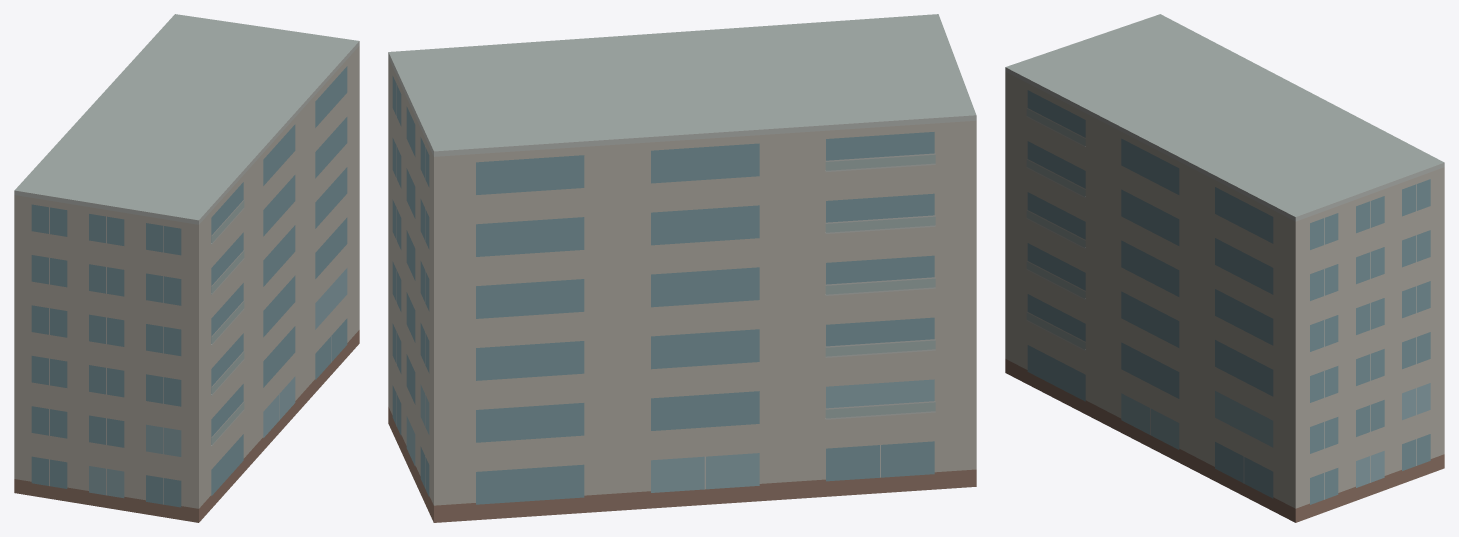
File: survey-upis-32999544.glb
3 renders of one model, left to right at view 1: azimuth 30°, elevation 25°; view 2: azimuth 150°, elevation 25°; view 3: azimuth 270°, elevation 25°, orthographic. The views are drawn at different scales.
Visible parts, largest first — view 1: survey-upis-32999544.tmp; view 2: survey-upis-32999544.tmp; view 3: survey-upis-32999544.tmp.
Part boxes in pixels (x1=…): survey-upis-32999544.tmp: x1=14, y1=14, x2=359, y2=522; survey-upis-32999544.tmp: x1=388, y1=14, x2=976, y2=522; survey-upis-32999544.tmp: x1=1005, y1=14, x2=1444, y2=522.
Size of the model in its own units: 23.67 by 16.6 by 21.63.
